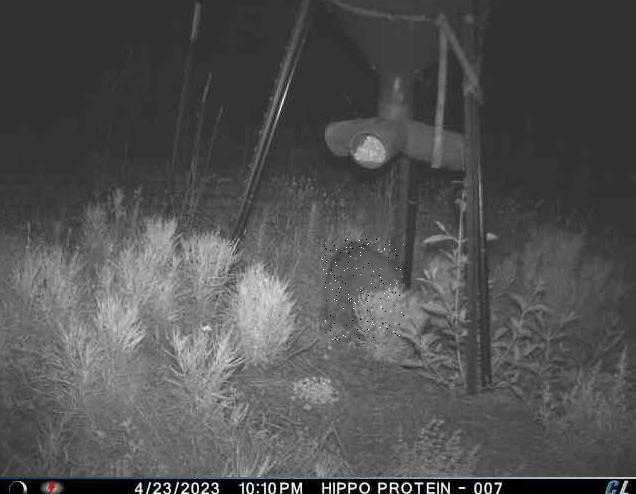Raccoon: (323, 239, 405, 340)
